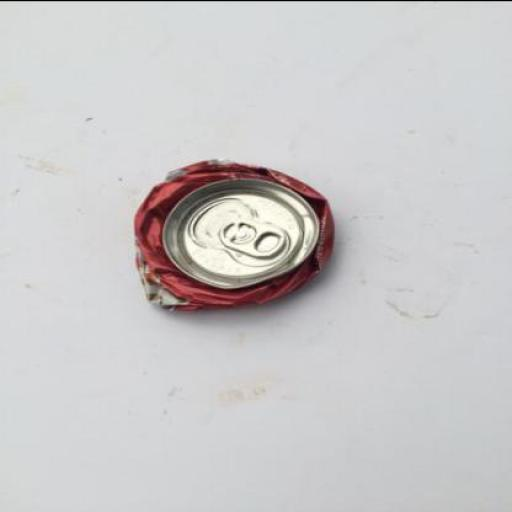metal: (137, 157, 336, 309)
